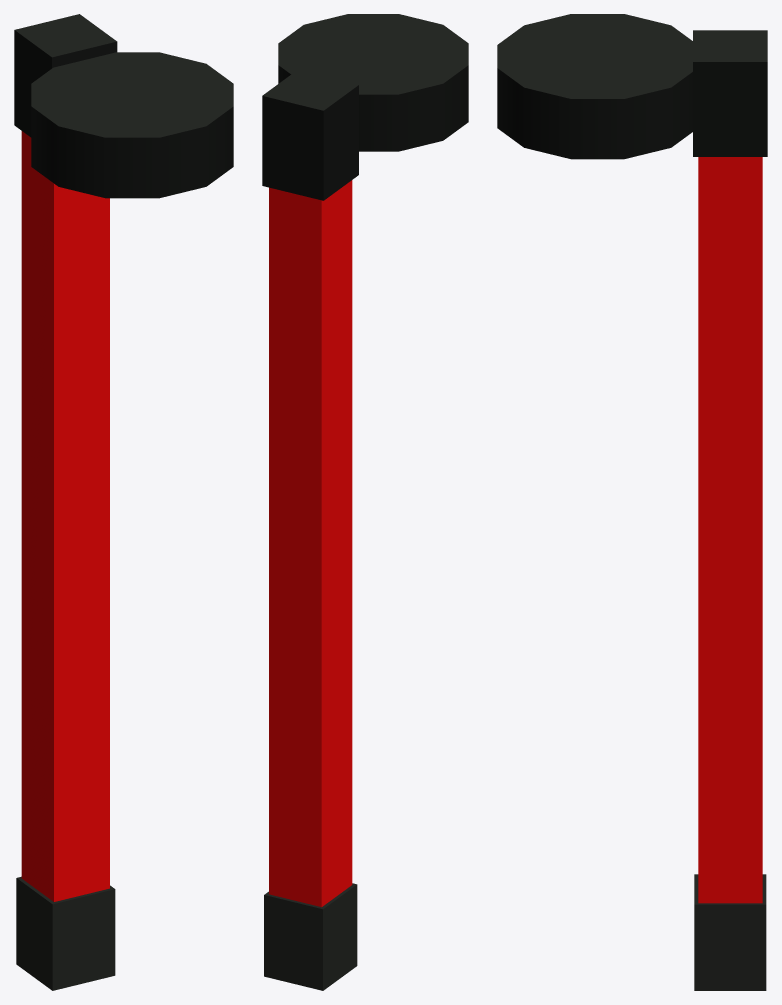
Rendered from lamp_modguide.fbx.
3 views of the same model, side by side, from view 1: azimuth 30°, elevation 25°; view 2: azimuth 150°, elevation 25°; view 3: azimuth 270°, elevation 25° (orthographic). The views are drawn at different scales.
Parts seen in each view (by area): view 1: lamp_modguide; view 2: lamp_modguide; view 3: lamp_modguide.
Boxes of the visible parts, bbox=[...] form: lamp_modguide: bbox=[14, 14, 233, 990]; lamp_modguide: bbox=[262, 14, 468, 990]; lamp_modguide: bbox=[497, 14, 767, 990].
Size of the model in its own units: 0.1845 by 0.9414 by 0.2483.
